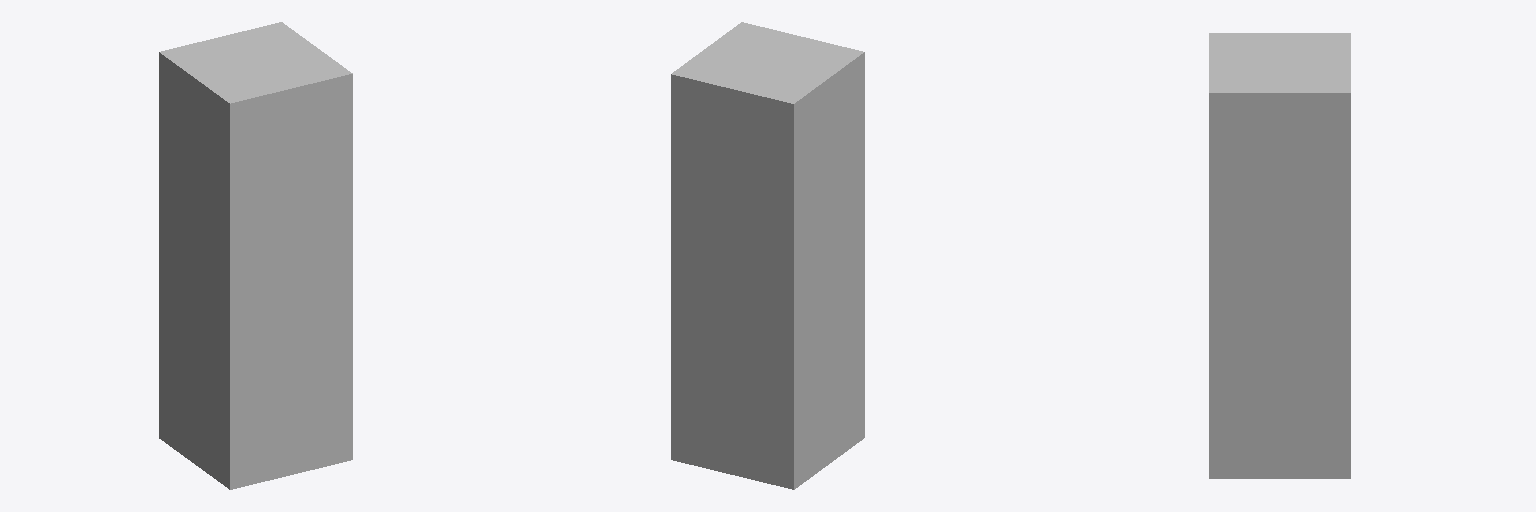
The model's file is arm.obj.
3 renders of one model, left to right at view 1: azimuth 30°, elevation 25°; view 2: azimuth 150°, elevation 25°; view 3: azimuth 270°, elevation 25°, orthographic.
Bounding box in the file's own units: 8 × 24.01 × 8.04.